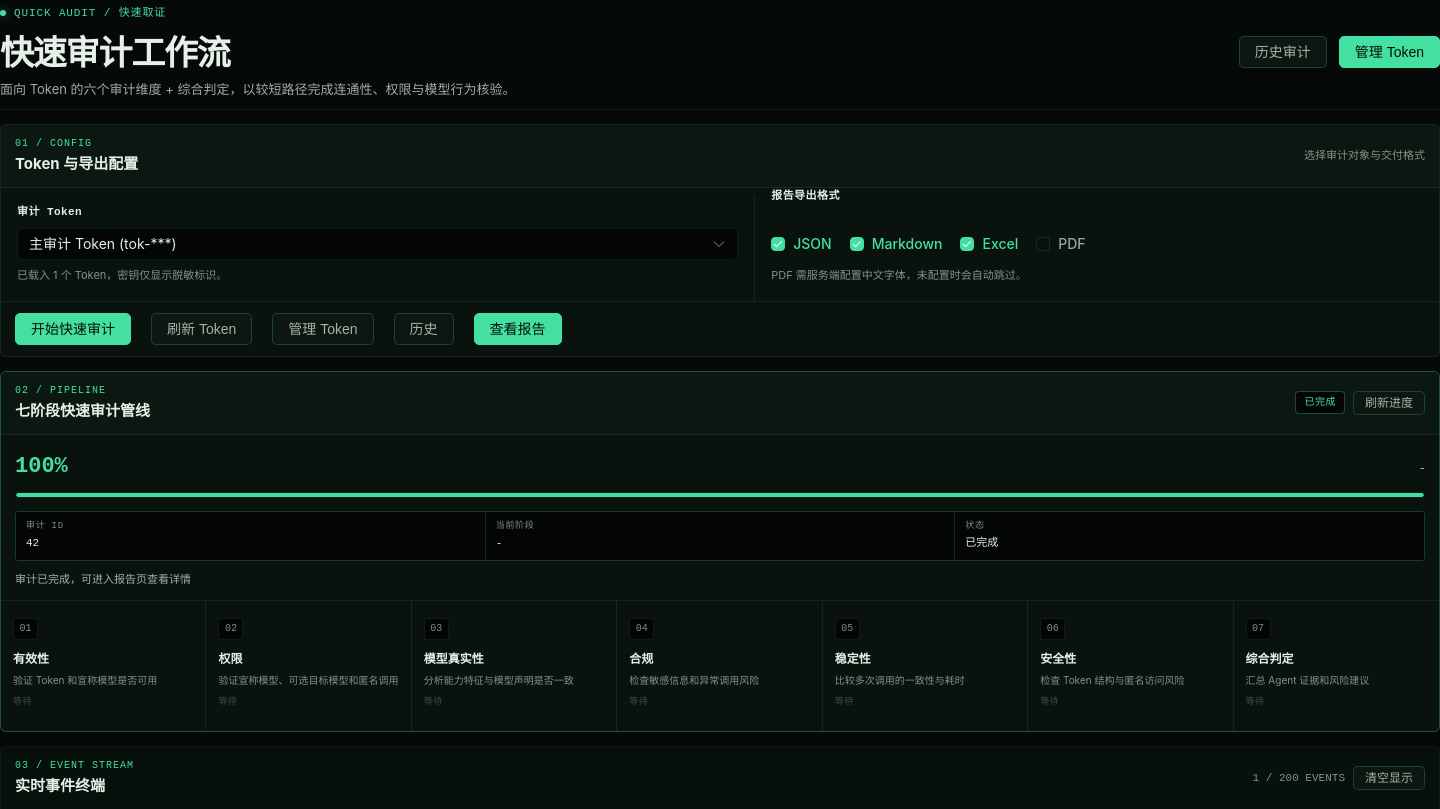
AuditForm terminal display clearing › resets the clear boundary when a new audit is submitted
Click the button "清空显示".
click(1389, 778)  # box [1353,766,1425,790]
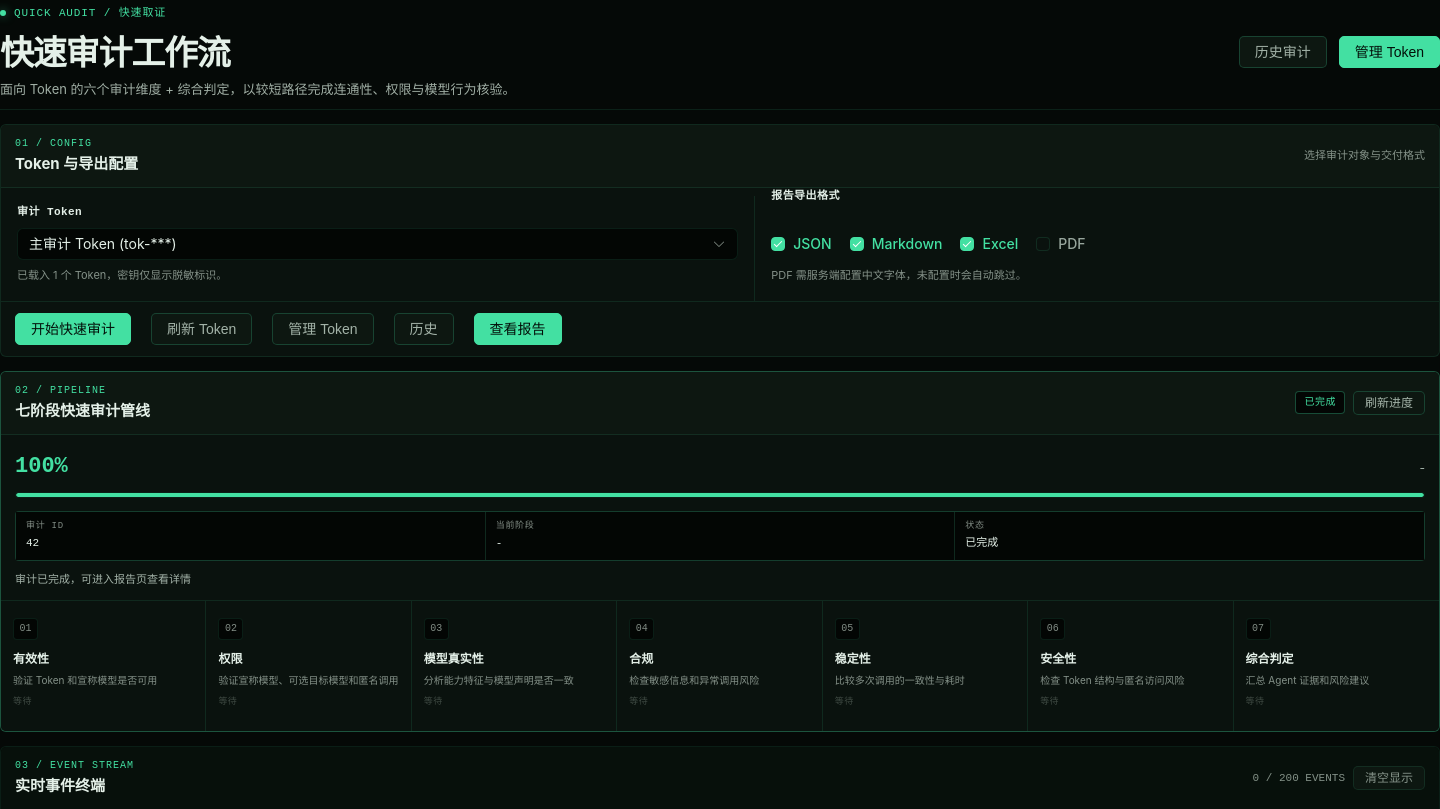
Click the button "开始快速审计".
click(73, 329)  # box [15,313,131,345]
(page scrolled)
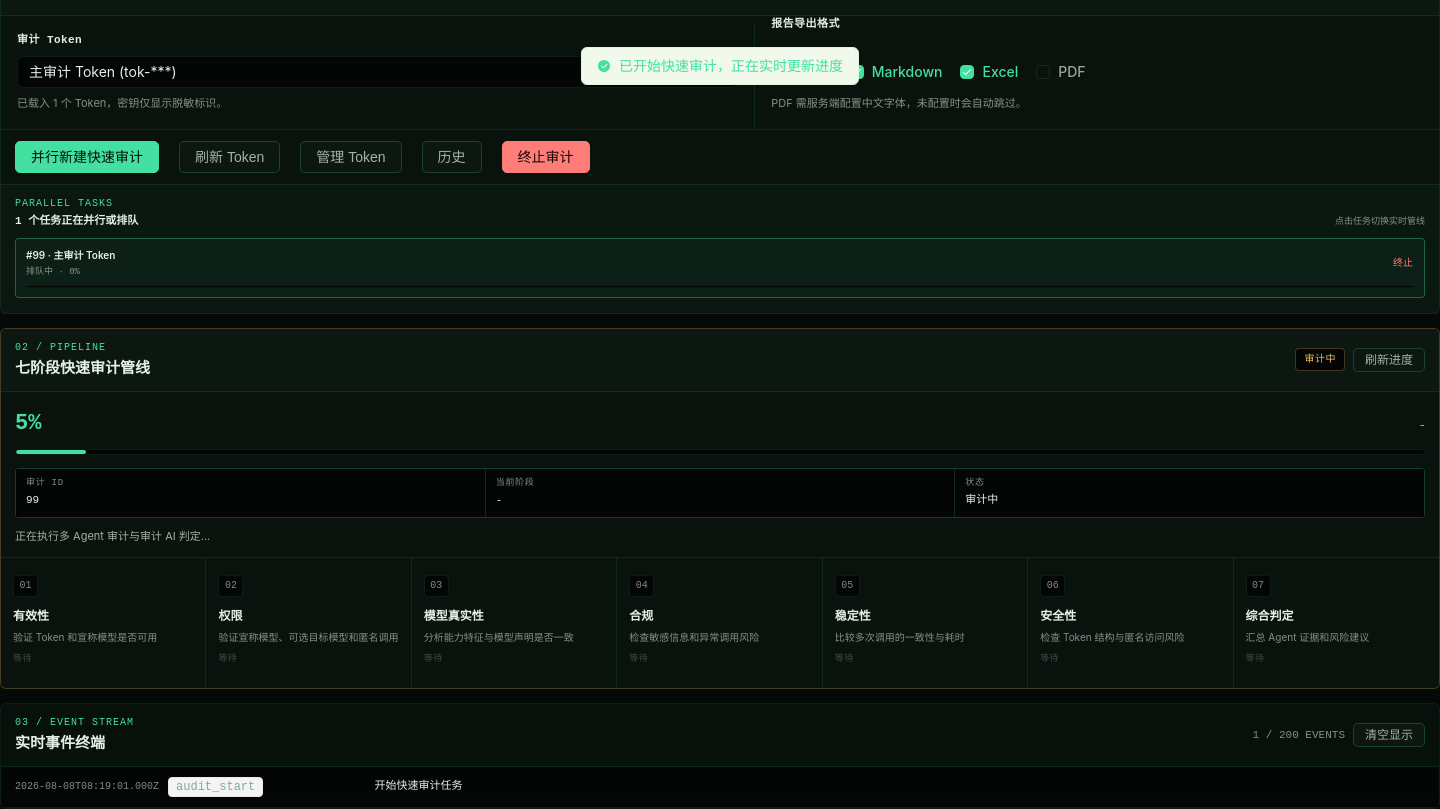
Expected: the element with test id "event-tag" reads "audit_start", [176,780,255,794]
Expected: the text "99" is shown, [26,248,115,260]
